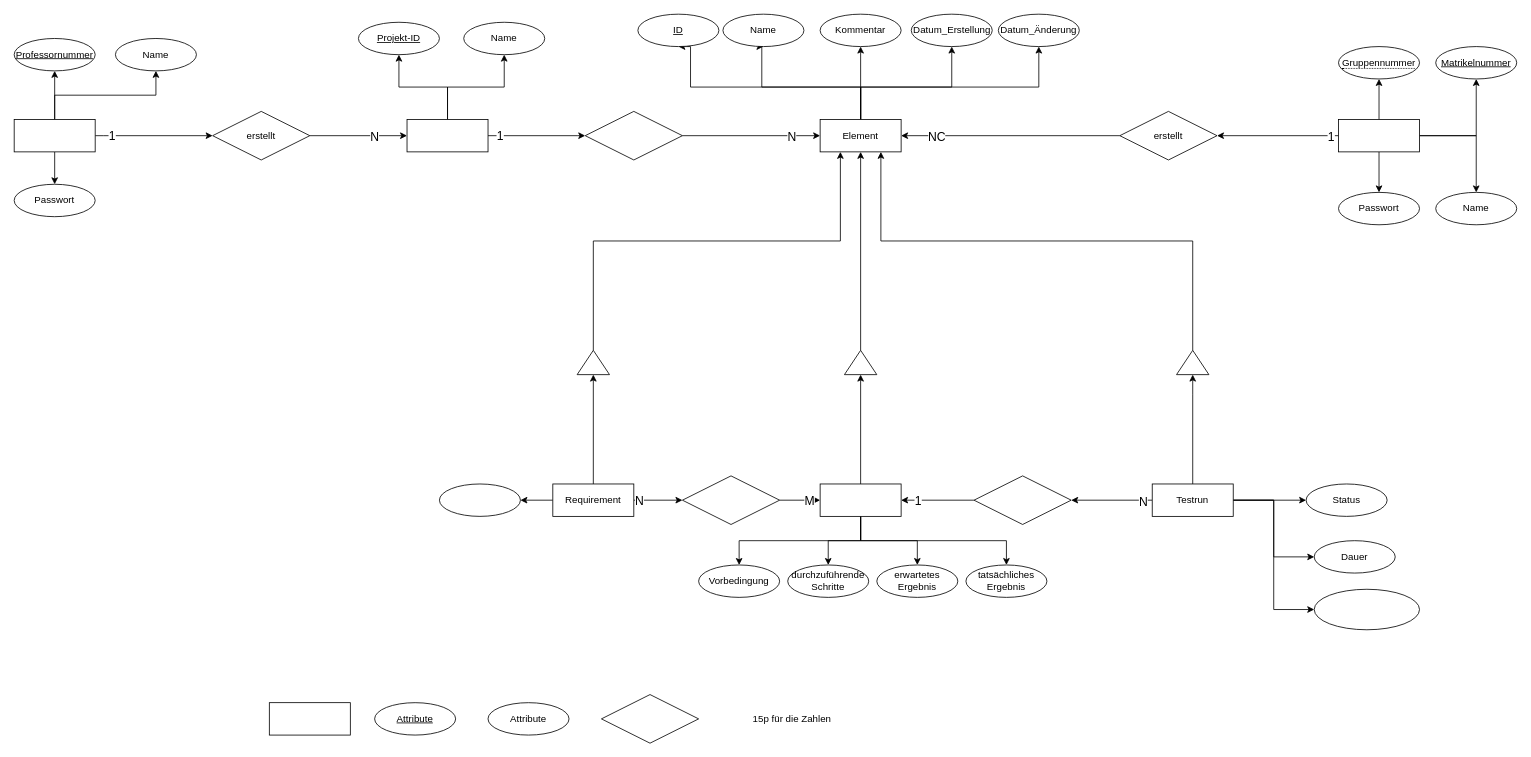
Image size: 1531x757. Some labels were removed from this diagram. The shapes that lost their labels are listed below. From the top down, each one's box as (x1, y1, x2, y2) in pixels, then its label:
(13, 119, 95, 152): Professor
(406, 119, 488, 152): Projekt
(584, 111, 682, 160): hat
(1338, 119, 1420, 152): Student
(439, 483, 520, 516): Kategorie
(682, 475, 780, 524): prüft
(819, 483, 901, 516): Testcase
(973, 475, 1071, 524): testet
(1313, 588, 1420, 630): Datum_Durchführung
(269, 702, 350, 735): Entity
(601, 694, 699, 743): Relationship
